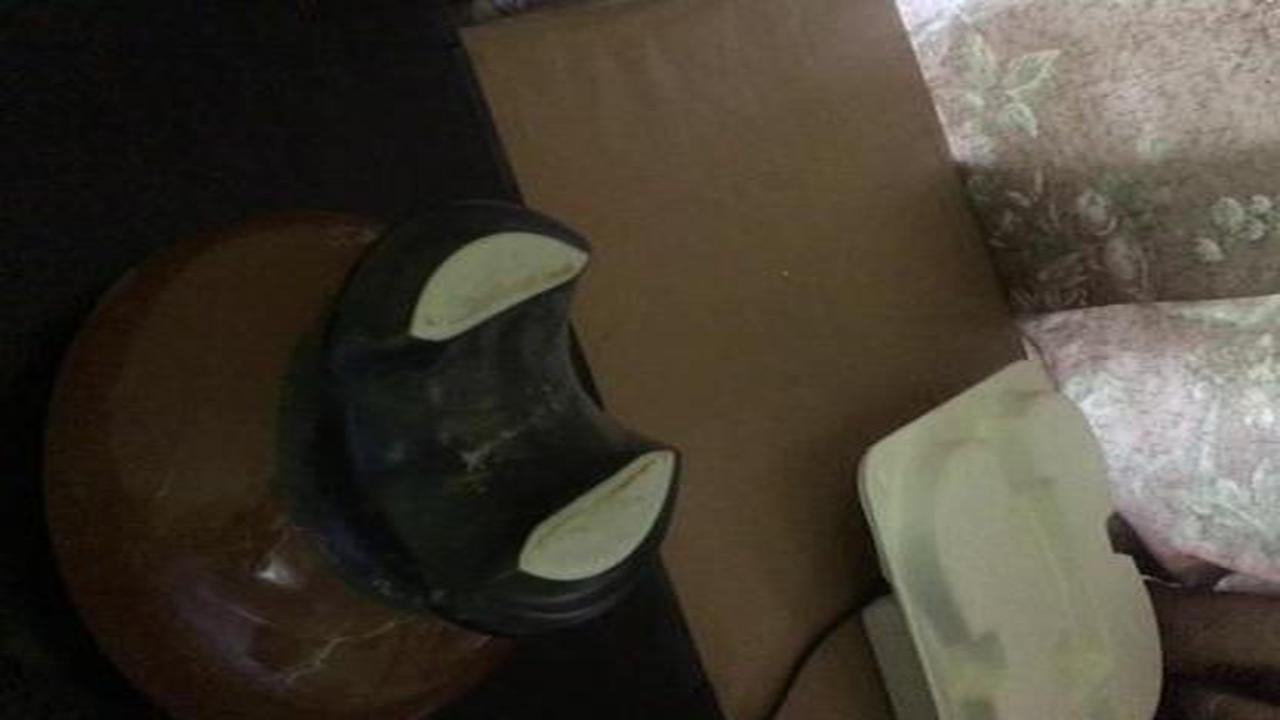insulator_pin: (22, 210, 714, 717)
